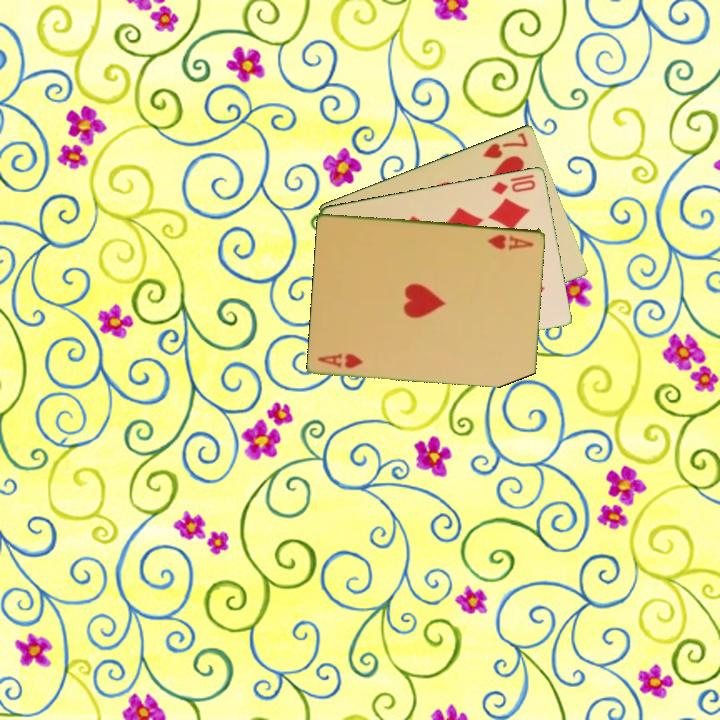10d: (488, 170, 539, 197)
7h: (479, 129, 531, 161)
Ah: (484, 230, 537, 252), (314, 349, 366, 371)
